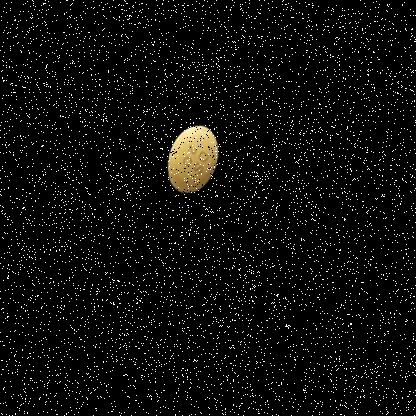rabeparzole20: (162, 119, 229, 208)
